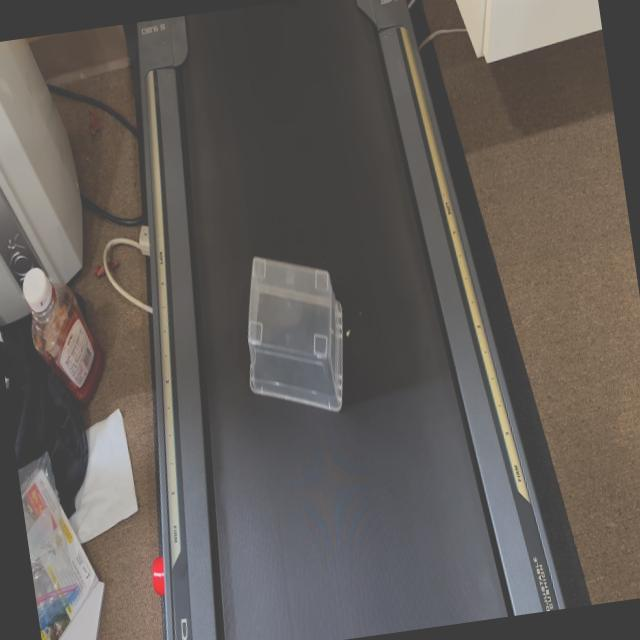Recycle: (230, 242, 358, 424)
